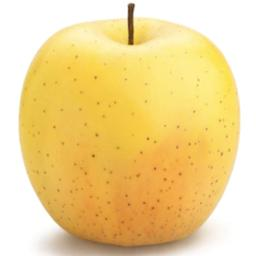Apple Ripe: (12, 2, 253, 256)
